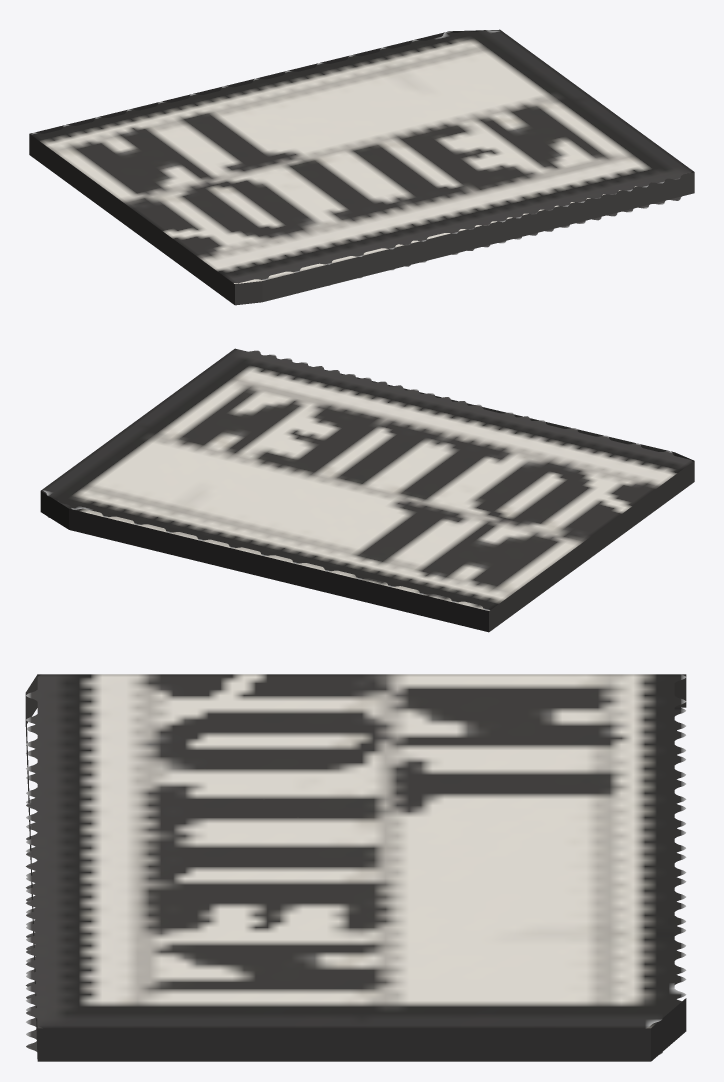
File: pz_native_location_entertainment_theatre_01_75_frame.obj
3 renders of one model, top to bottom at view 1: azimuth 30°, elevation 25°; view 2: azimuth 150°, elevation 25°; view 3: azimuth 270°, elevation 25°, orthographic. The views are drawn at different scales.
Parts seen in each view (by area): view 1: pz_native_location_entertainment_theatre_01_75_frame; view 2: pz_native_location_entertainment_theatre_01_75_frame; view 3: pz_native_location_entertainment_theatre_01_75_frame.
Part boxes in pixels (x1,y1,x2,y2): pz_native_location_entertainment_theatre_01_75_frame: [29, 29, 694, 305]; pz_native_location_entertainment_theatre_01_75_frame: [40, 348, 694, 632]; pz_native_location_entertainment_theatre_01_75_frame: [25, 674, 686, 1061].
Bounding box in the file's own units: 0.9375 × 0.04 × 0.7527.
1 material, 1 textured.
